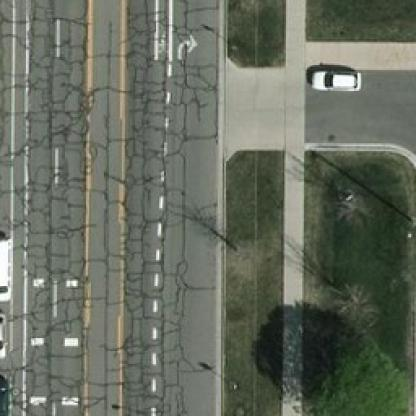car: (309, 66, 360, 92)
